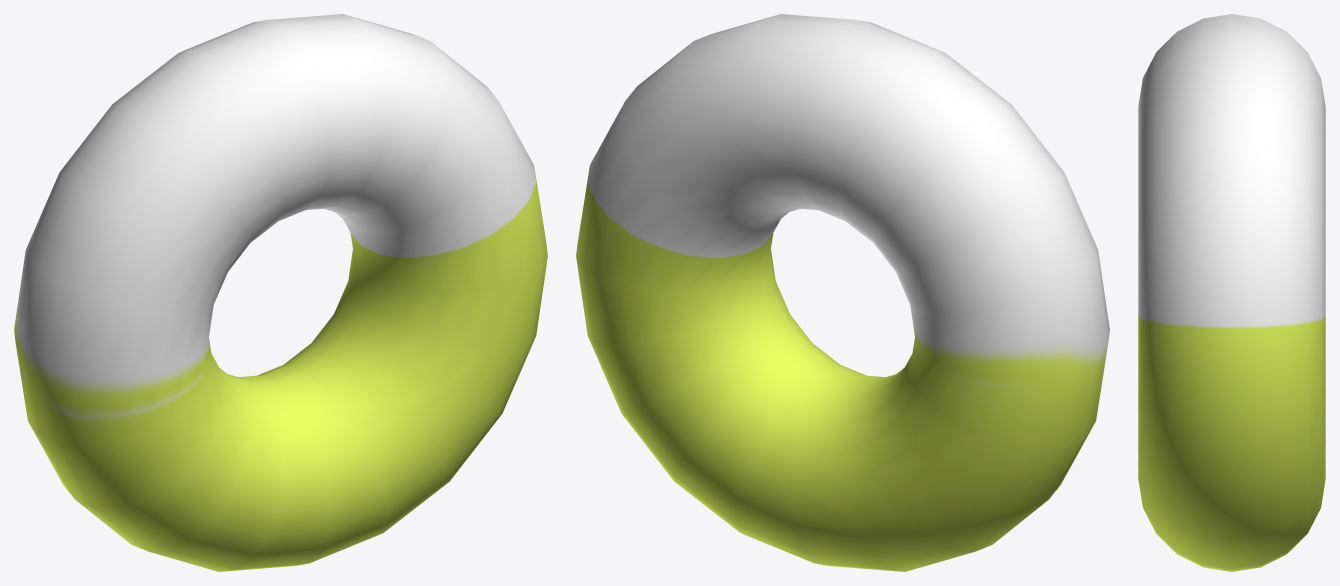
File: Donuts_lambert_tex.fbx
3 views of the same model, side by side, from view 1: azimuth 30°, elevation 25°; view 2: azimuth 150°, elevation 25°; view 3: azimuth 270°, elevation 25° (orthographic). The views are drawn at different scales.
Visible parts, largest first — view 1: pTorus1; view 2: pTorus1; view 3: pTorus1.
Part boxes in pixels (x1,y1,x2,y2): pTorus1: (14,14,547,571); pTorus1: (576,14,1109,571); pTorus1: (1138,14,1325,571).
Bounding box in the file's own units: 3 × 3 × 1.
Materials: 1 (1 with a texture image).
